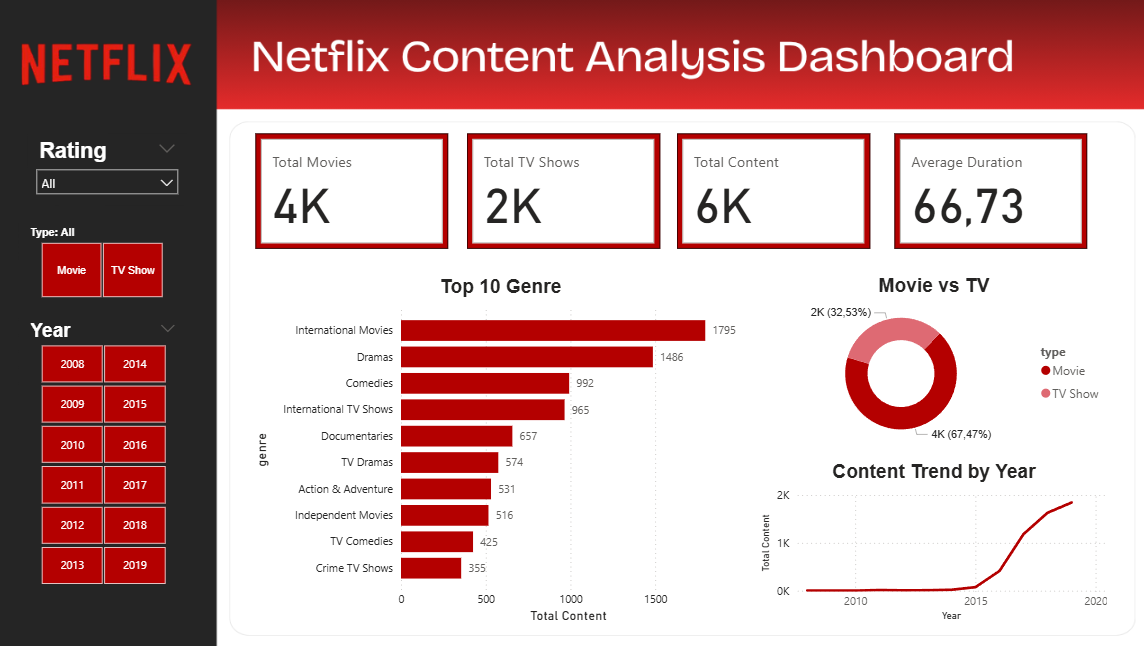

The dashboard page shown, as its layout file describes it:
{"tool":"powerbi","page":{"name":"Overview","canvas":[1280,720],"ordinal":0},"visuals":[{"type":"slicer","fields":{"Values":["Dim_Date.Year"]},"box":[25.7,350,187.1,305.7],"z":0},{"type":"slicer","fields":{"Values":["Fact_Netflix.type"]},"box":[24.3,247.1,184.3,90],"z":1000},{"type":"cardVisual","fields":{"Data":["Fact_Netflix.Total Content"]},"box":[534,148,214,128],"z":2000},{"type":"cardVisual","fields":{"Data":["Fact_Netflix.Total Movies"]},"box":[288,148,214,128],"z":3000},{"type":"cardVisual","fields":{"Data":["Fact_Netflix.Total TV Shows"]},"box":[772,148,214,128],"z":4000},{"type":"cardVisual","fields":{"Data":["Fact_Netflix.Average Duration"]},"box":[998,148,214,128],"z":5000},{"type":"donutChart","title":"Movie vs TV","fields":{"Category":["Fact_Netflix.type"],"Y":["Fact_Netflix.Total Content"]},"box":[845.6,305.6,394.4,195.6],"z":6000},{"type":"lineChart","title":"Content Trend by Year","fields":{"Category":["Dim_Date.Year"],"Y":["Fact_Netflix.Total Content"]},"box":[845.6,512.2,394.4,183.3],"z":7000},{"type":"clusteredBarChart","title":"Top 10 Genre","fields":{"Category":["Bridge_Genre.genre"],"Y":["Fact_Netflix.Total Content"]},"box":[281.7,306.7,558.3,390],"z":8000},{"type":"slicer","fields":{"Values":["Dim_Rating.rating"]},"box":[35.7,148.6,177.1,80],"z":9000}]}

Visuals, with their boxes in screenshot pixels (x1, y1, x2, y2), scaled from the page's 1280x720 canvas onto the 1144x646 screenshot:
slicer - Dim_Date.Year: (left=23, top=314, right=190, bottom=588)
slicer - Fact_Netflix.type: (left=22, top=222, right=186, bottom=302)
cardVisual - Fact_Netflix.Total Content: (left=477, top=133, right=669, bottom=248)
cardVisual - Fact_Netflix.Total Movies: (left=257, top=133, right=449, bottom=248)
cardVisual - Fact_Netflix.Total TV Shows: (left=690, top=133, right=881, bottom=248)
cardVisual - Fact_Netflix.Average Duration: (left=892, top=133, right=1083, bottom=248)
"Movie vs TV" donutChart: (left=756, top=274, right=1108, bottom=450)
"Content Trend by Year" lineChart: (left=756, top=460, right=1108, bottom=624)
"Top 10 Genre" clusteredBarChart: (left=252, top=275, right=751, bottom=625)
slicer - Dim_Rating.rating: (left=32, top=133, right=190, bottom=205)
